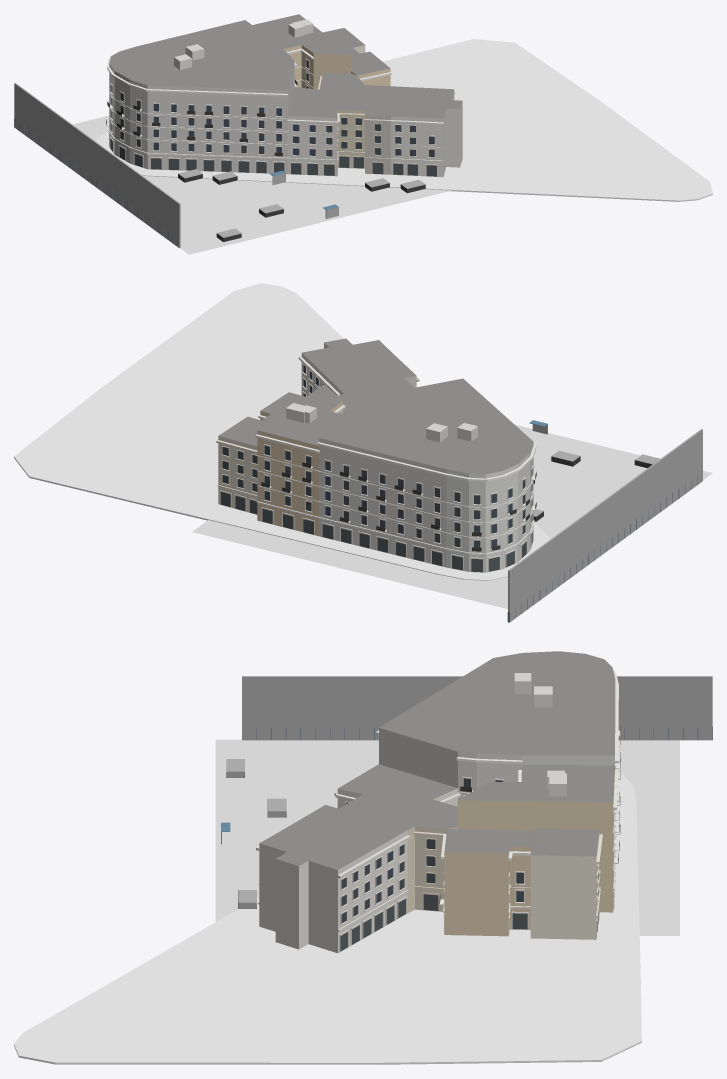
Rendered from chunk_00_04.glb.
The picture shows the model from 3 angles, top to bottom: view 1: azimuth 30°, elevation 25°; view 2: azimuth 150°, elevation 25°; view 3: azimuth 270°, elevation 25°; orthographic projection. The views are drawn at different scales.
Parts seen in each view (by area): view 1: chunk_00_04_LOD0, chunk_00_04_COL; view 2: chunk_00_04_LOD0, chunk_00_04_COL; view 3: chunk_00_04_LOD0, chunk_00_04_COL.
Part boxes in pixels (x1,y1,x2,y2): chunk_00_04_LOD0: (14,14,712,254); chunk_00_04_COL: (14,83,425,248); chunk_00_04_LOD0: (14,283,712,622); chunk_00_04_COL: (508,424,702,621); chunk_00_04_LOD0: (14,651,712,1064); chunk_00_04_COL: (221,676,712,908).
Size of what is drawn, in the model's own units: 132 by 25.63 by 120.
